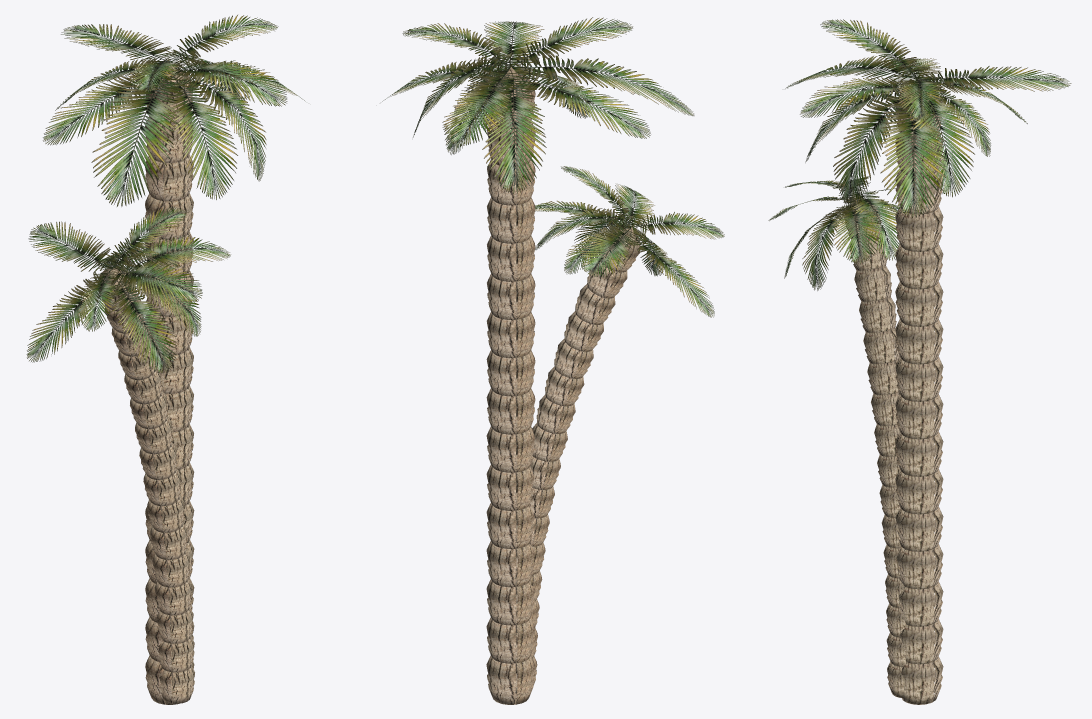
File: palmiii.obj
3 renders of one model, left to right at view 1: azimuth 30°, elevation 25°; view 2: azimuth 150°, elevation 25°; view 3: azimuth 270°, elevation 25°, orthographic. The views are drawn at different scales.
Parts seen in each view (by area): view 1: palme; view 2: palme; view 3: palme.
Part boxes in pixels (x1=…): palme: x1=26, y1=15, x2=305, y2=704; palme: x1=382, y1=17, x2=724, y2=704; palme: x1=768, y1=19, x2=1071, y2=704.
Size of the model in its own units: 391 by 791 by 352.
